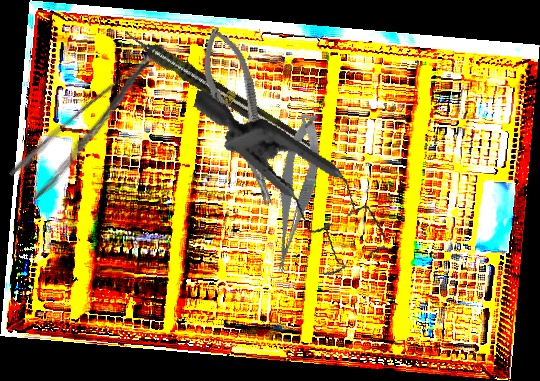Dressing Forceps: (5, 42, 186, 204)
Handpiece: (119, 24, 316, 157)
Micro Scissor: (253, 109, 335, 277)
Needle Holder: (192, 22, 289, 211)
Speculum: (165, 90, 409, 286)
